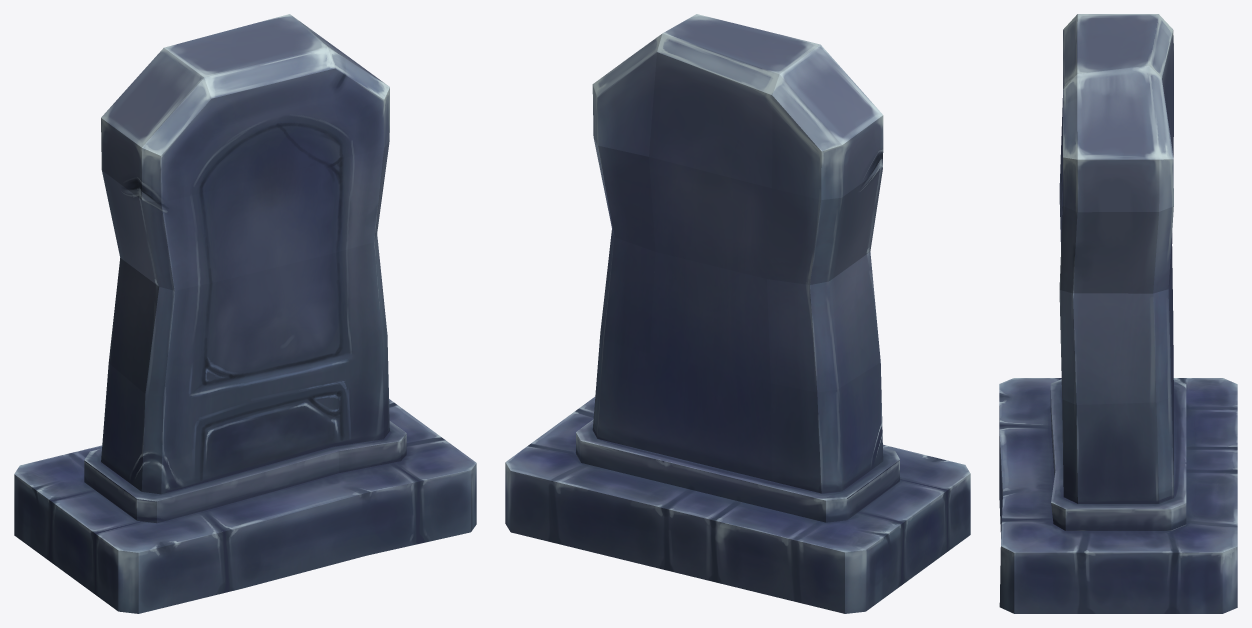
Rendered from gravestone1_1.fbx.
3 views of the same model, side by side, from view 1: azimuth 30°, elevation 25°; view 2: azimuth 150°, elevation 25°; view 3: azimuth 270°, elevation 25° (orthographic).
Parts seen in each view (by area): view 1: Cube.004; view 2: Cube.004; view 3: Cube.004.
Boxes of the visible parts, box(x1,y1,x2,y2) form: Cube.004: box(14, 14, 476, 613); Cube.004: box(505, 14, 970, 613); Cube.004: box(999, 14, 1237, 613).
Bounding box in the file's own units: 237 × 310 × 136.
